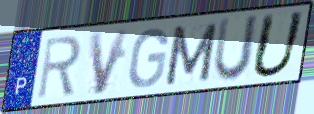G: (126, 26, 170, 90)
M: (163, 21, 220, 88)
R: (35, 33, 83, 102)
U: (248, 9, 308, 81), (211, 12, 262, 85)
V: (87, 26, 132, 98)
